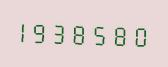eight: (74, 19, 92, 47), (112, 21, 130, 48)
five: (93, 20, 111, 47)
nine: (36, 18, 54, 45)
one: (17, 17, 35, 45)
three: (55, 19, 73, 46)
zero: (131, 21, 149, 49)
